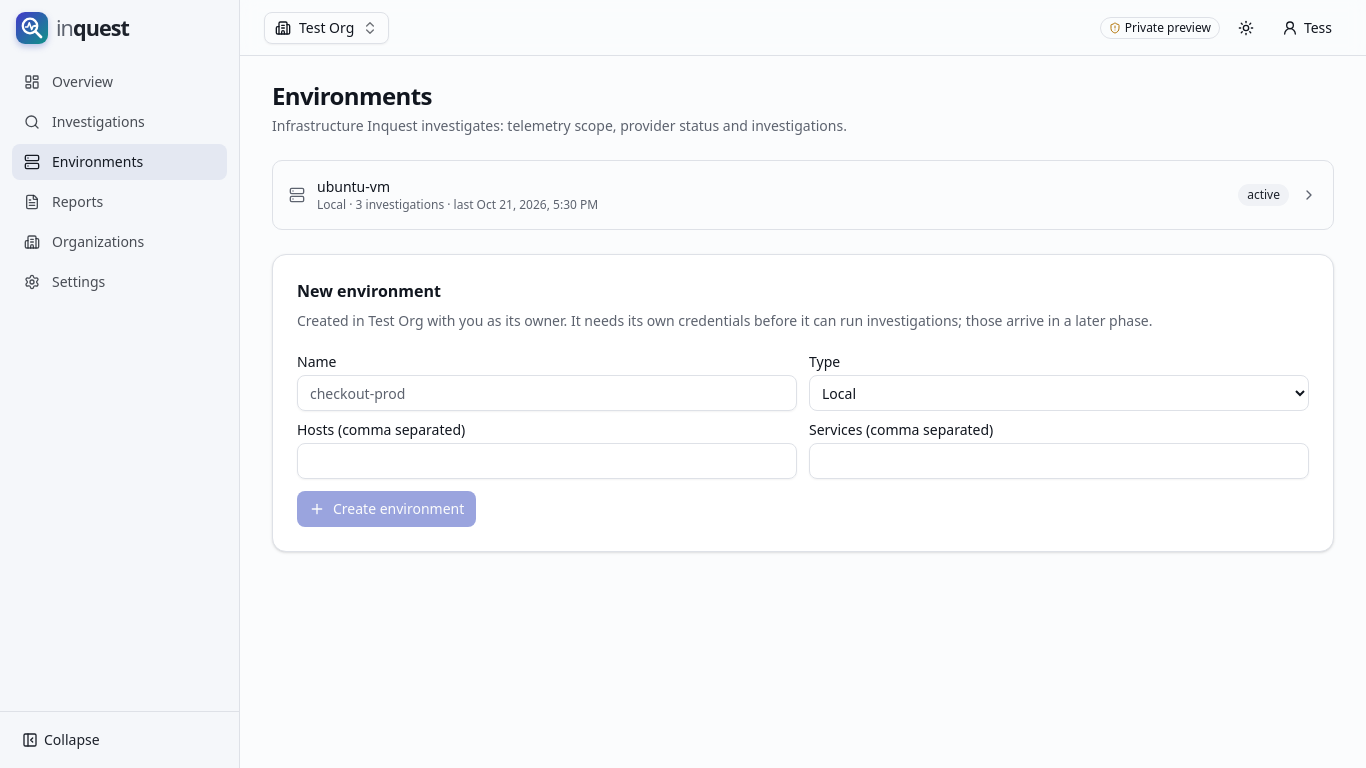
Test: organization scope › drops the previous organization’s data when switching and asks for the new one
Expected: the text "ubuntu-vm" is shown, [317, 177, 390, 196]
Click the button named "switch organization". click: point(327, 28)
box: [264, 12, 389, 44]
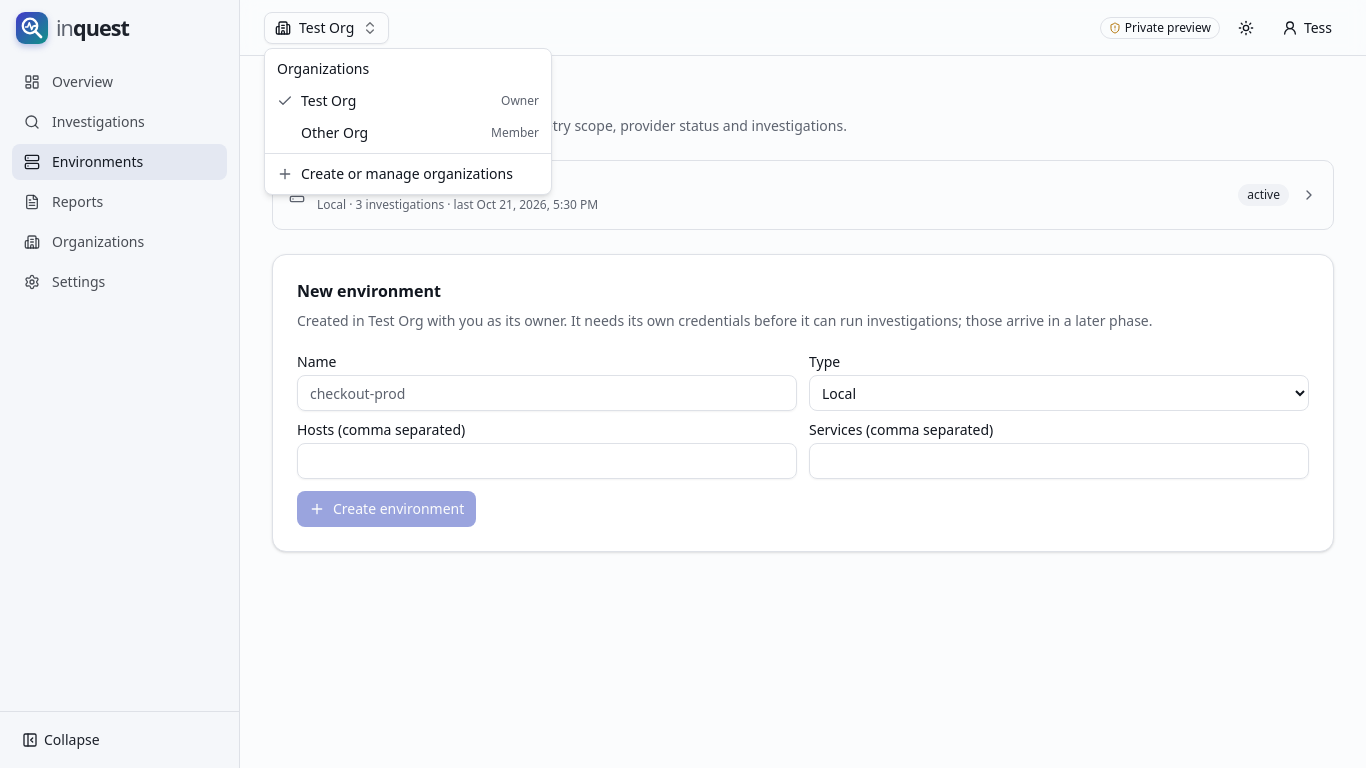
Click the menu item "Other Org Member". click: point(335, 132)
box: [301, 123, 539, 142]
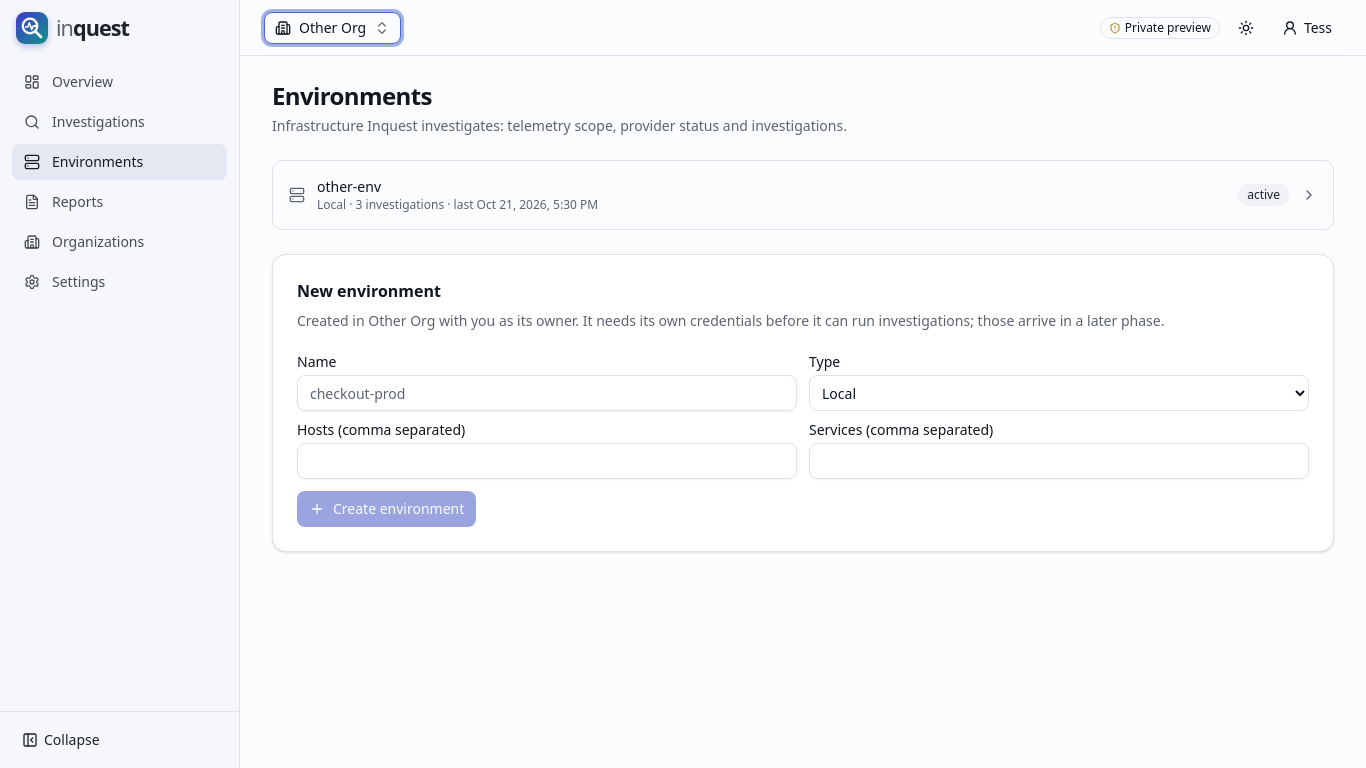
Expected: the text "other-env" is shown, [317, 177, 381, 196]
Expected: the link "ubuntu-vm" is gone
